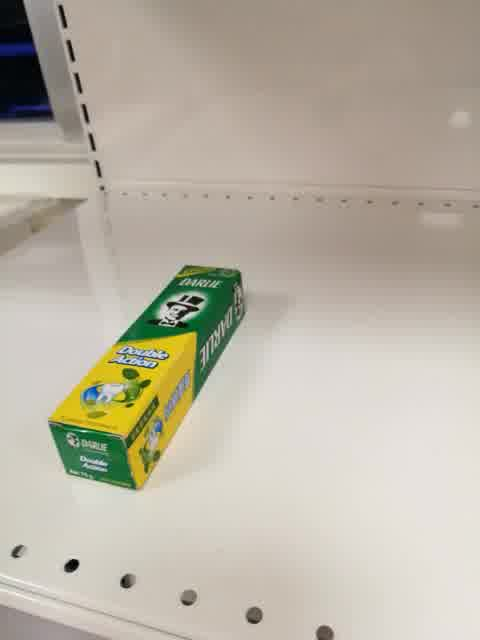toothpaste: (48, 265, 248, 490)
